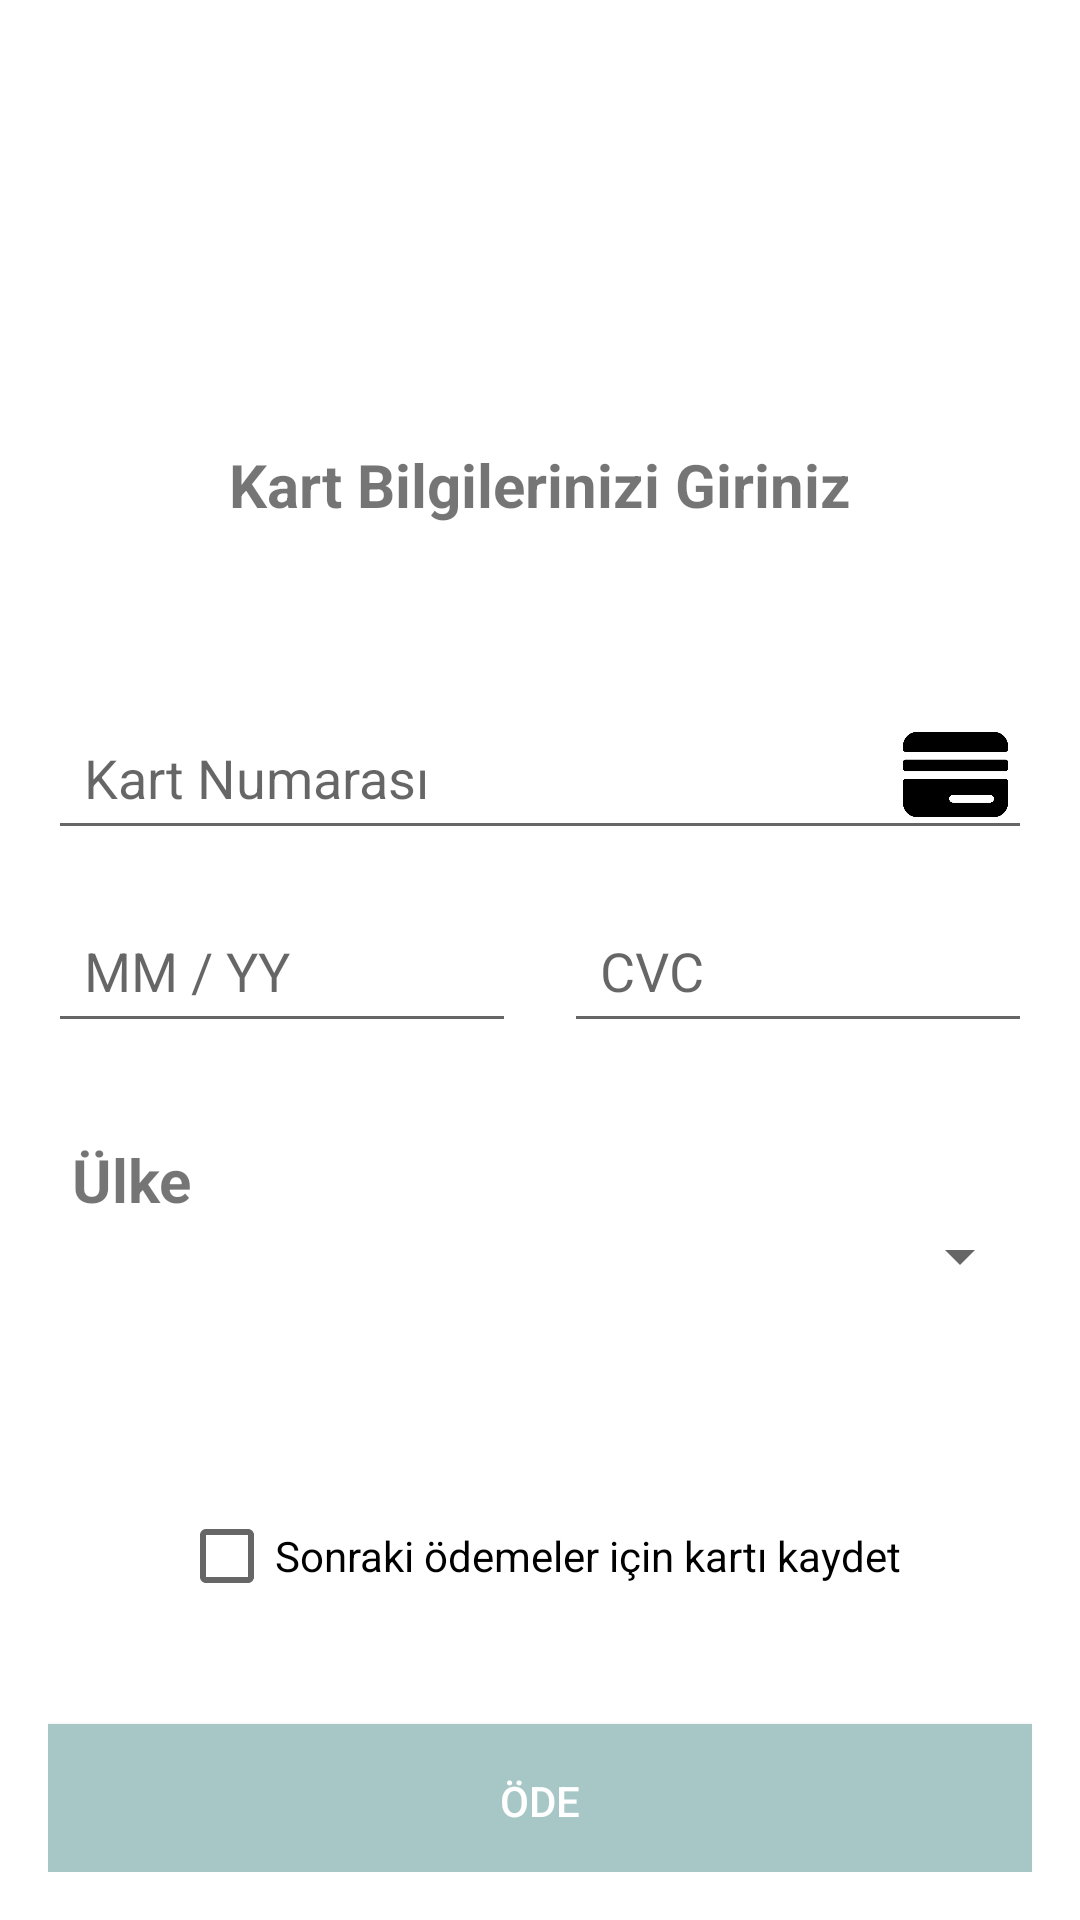

Icons on this 1080x1920 Android screen, each with the point to tap as [x,y]:
credit cart: [955,774]
